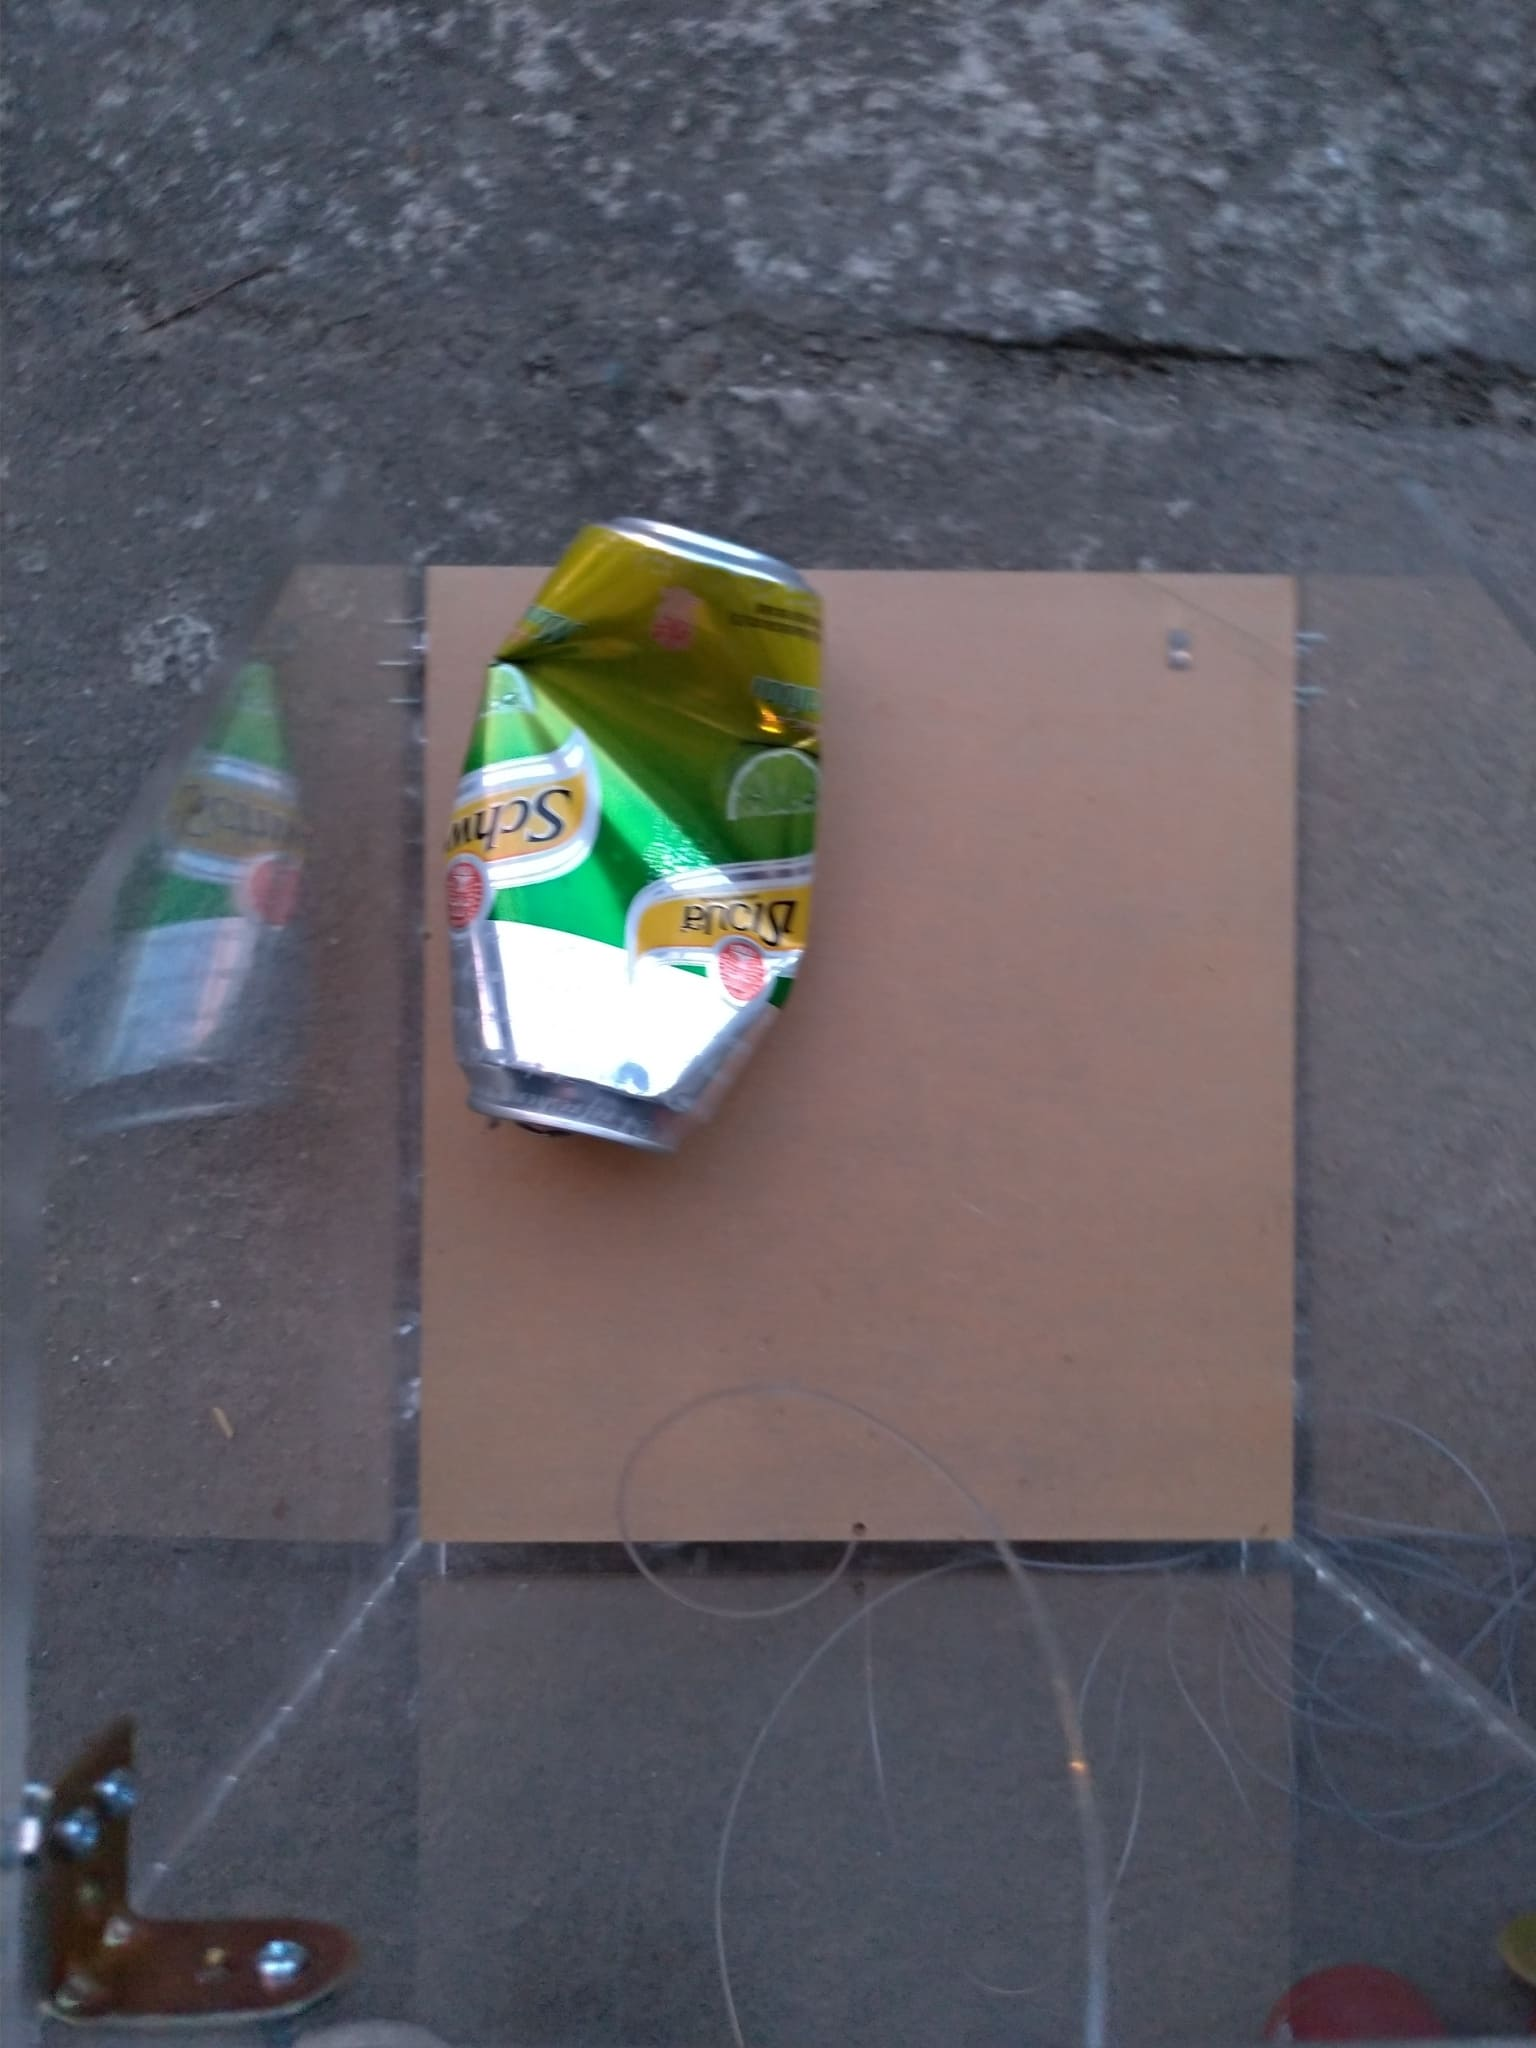AlCan: (445, 516, 833, 1151)
